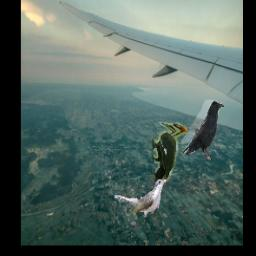Crow: (182, 101, 225, 161)
Cuckoo: (114, 178, 168, 220)
Woodpecker: (153, 122, 188, 185)
